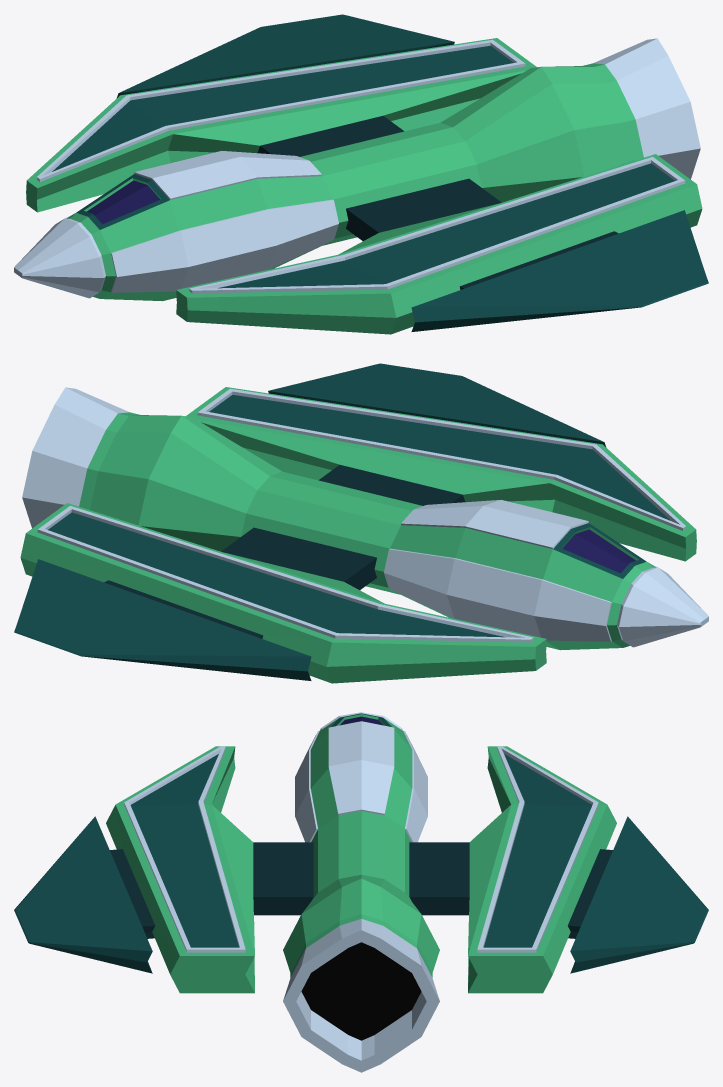
File: Ravager.fbx
3 renders of one model, top to bottom at view 1: azimuth 30°, elevation 25°; view 2: azimuth 150°, elevation 25°; view 3: azimuth 270°, elevation 25°, orthographic. The views are drawn at different scales.
Parts seen in each view (by area): view 1: Boss2; view 2: Boss2; view 3: Boss2.
Part boxes in pixels (<box>): Boss2: <box>14,14,708,334</box>; Boss2: <box>14,363,708,683</box>; Boss2: <box>14,712,708,1072</box>.
Bounding box in the file's own units: 1314 × 308 × 1361.
